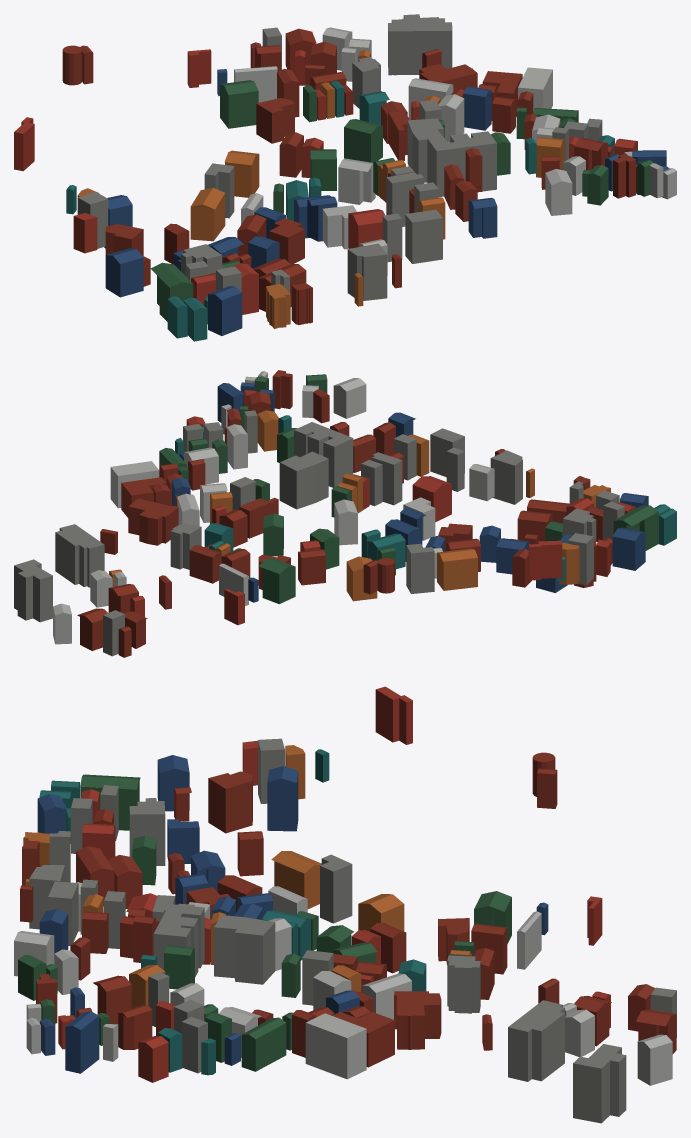
Rendered from near-17-109438-59478.d5db254f.glb.
3 renders of one model, top to bottom at view 1: azimuth 30°, elevation 25°; view 2: azimuth 150°, elevation 25°; view 3: azimuth 270°, elevation 25°, orthographic. The views are drawn at different scales.
Size of the model in its own units: 305 by 72.04 by 293.
